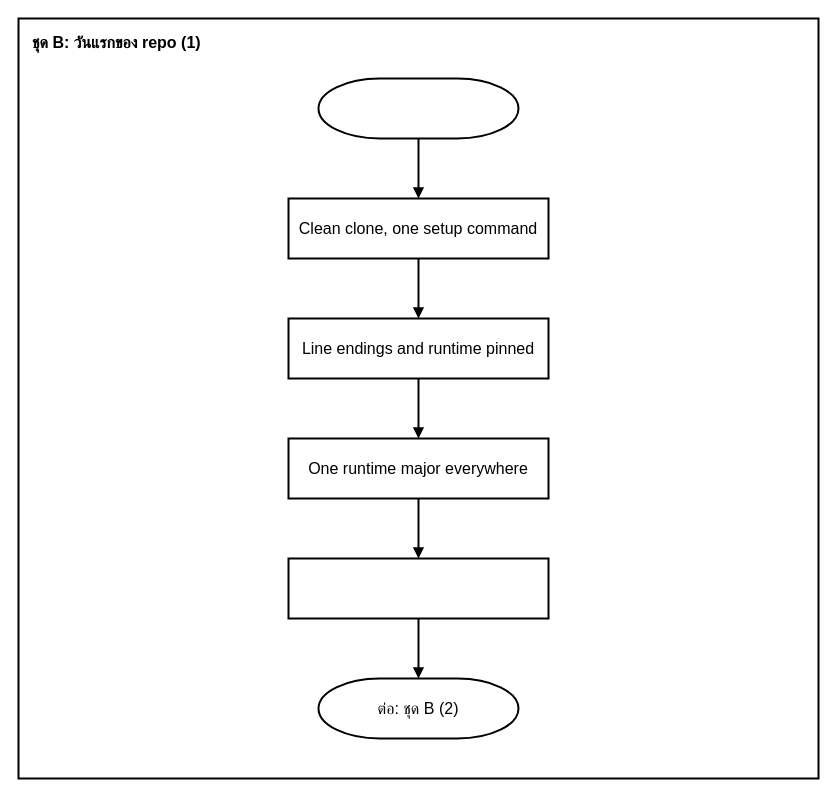
The diagram is 836 pixels wide and 796 high, and some of its shapes have lost their labels. The shapes that lost their labels are listed below. From the top down, each one's centre as x and y in pixels, then its label:
At point (418, 108): "เริ่มชุด B".
At point (418, 588): "CI required, each gate seen red".
